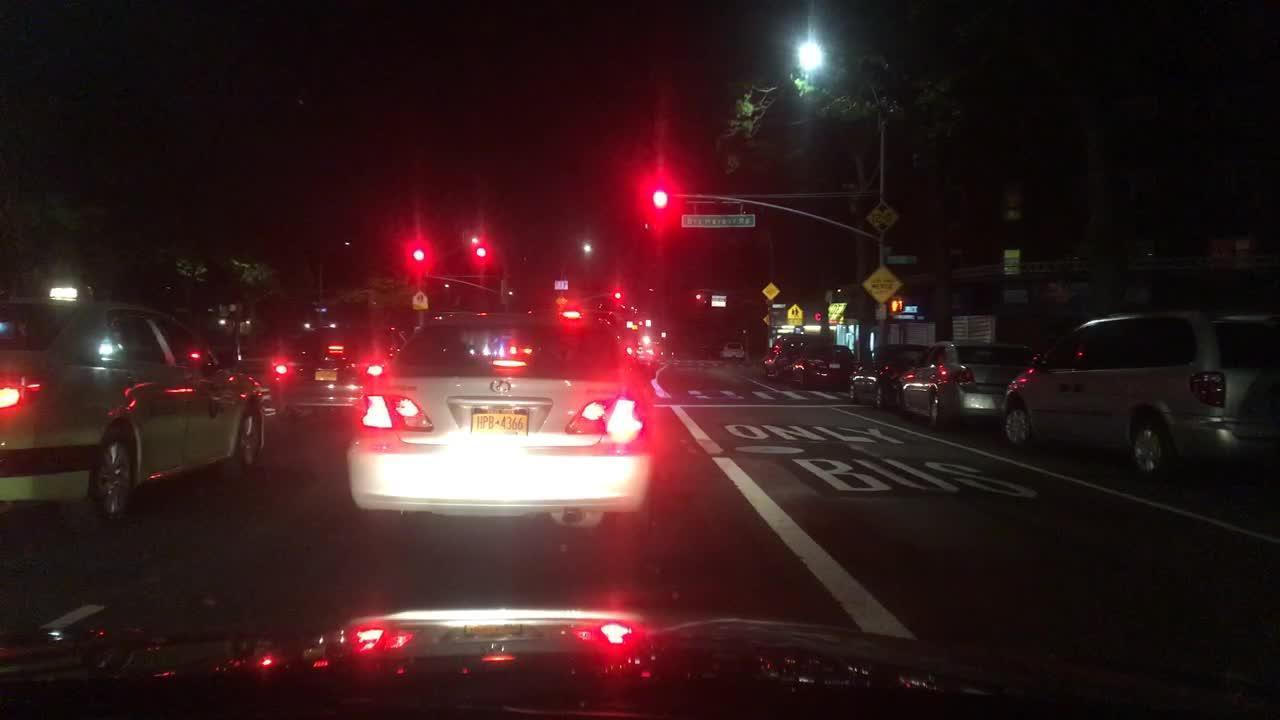lexus: (483, 377, 518, 399)
